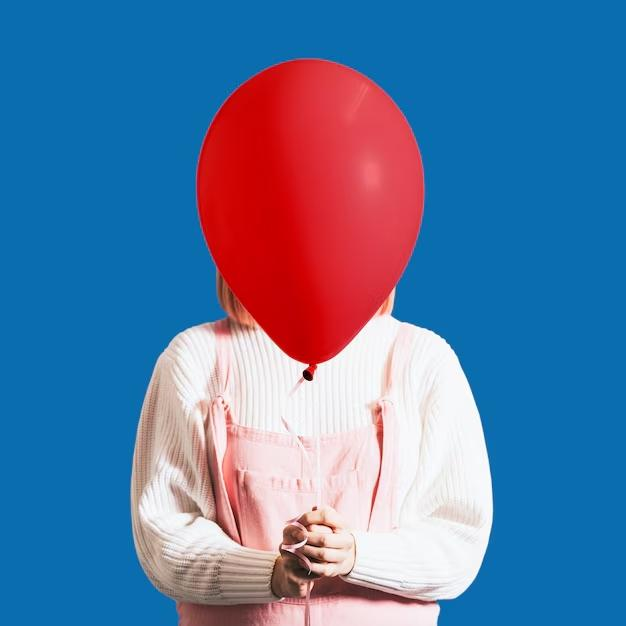red: (192, 53, 429, 384)
